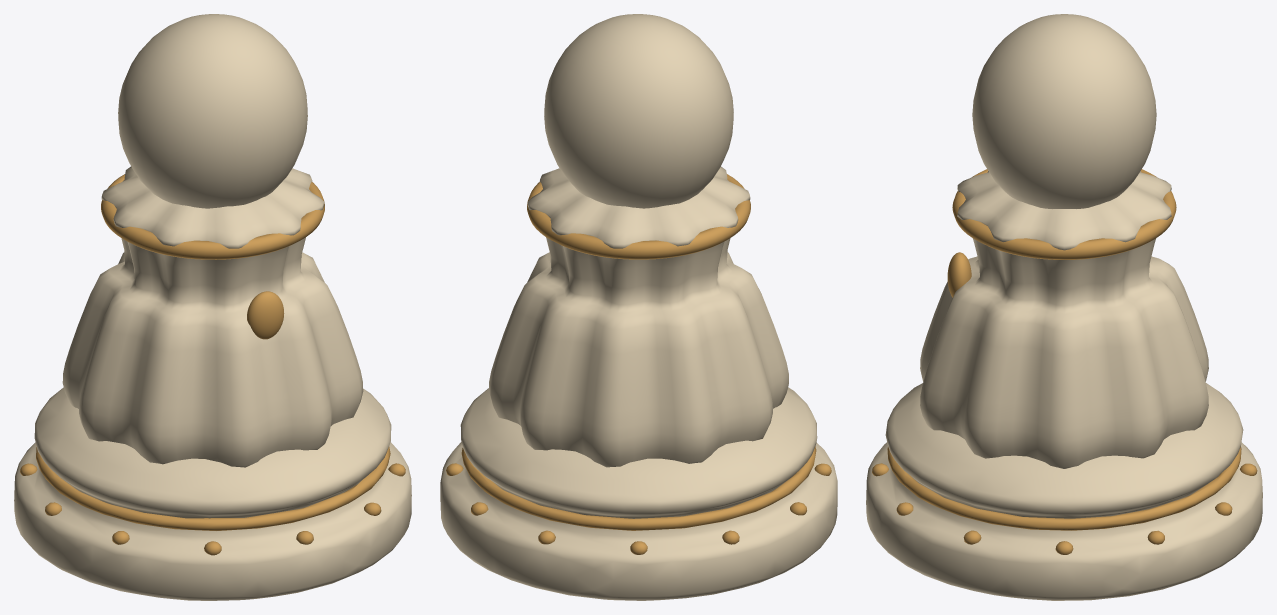
The model's file is pawn.glb.
3 views of the same model, side by side, from view 1: azimuth 30°, elevation 25°; view 2: azimuth 150°, elevation 25°; view 3: azimuth 270°, elevation 25° (orthographic).
Parts seen in each view (by area): view 1: PIECE_Pawn_Sculpture, PIECE_Pawn_Base; view 2: PIECE_Pawn_Sculpture, PIECE_Pawn_Base; view 3: PIECE_Pawn_Sculpture, PIECE_Pawn_Base.
Boxes of the visible parts, x1=… form: PIECE_Pawn_Sculpture: x1=62, y1=14, x2=363, y2=467; PIECE_Pawn_Base: x1=14, y1=387, x2=411, y2=600; PIECE_Pawn_Sculpture: x1=489, y1=14, x2=788, y2=467; PIECE_Pawn_Base: x1=440, y1=387, x2=837, y2=600; PIECE_Pawn_Sculpture: x1=920, y1=14, x2=1208, y2=468; PIECE_Pawn_Base: x1=866, y1=383, x2=1262, y2=600.
Bounding box in the file's own units: 0.719 × 1 × 0.719.
